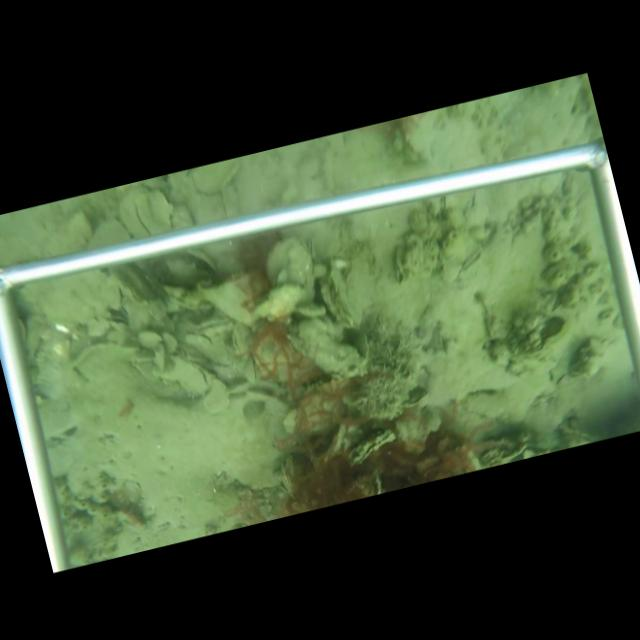Oyster-Closed: (161, 353, 212, 397), (230, 324, 254, 359), (240, 356, 263, 387)
Oyster-Open: (347, 428, 400, 466)
